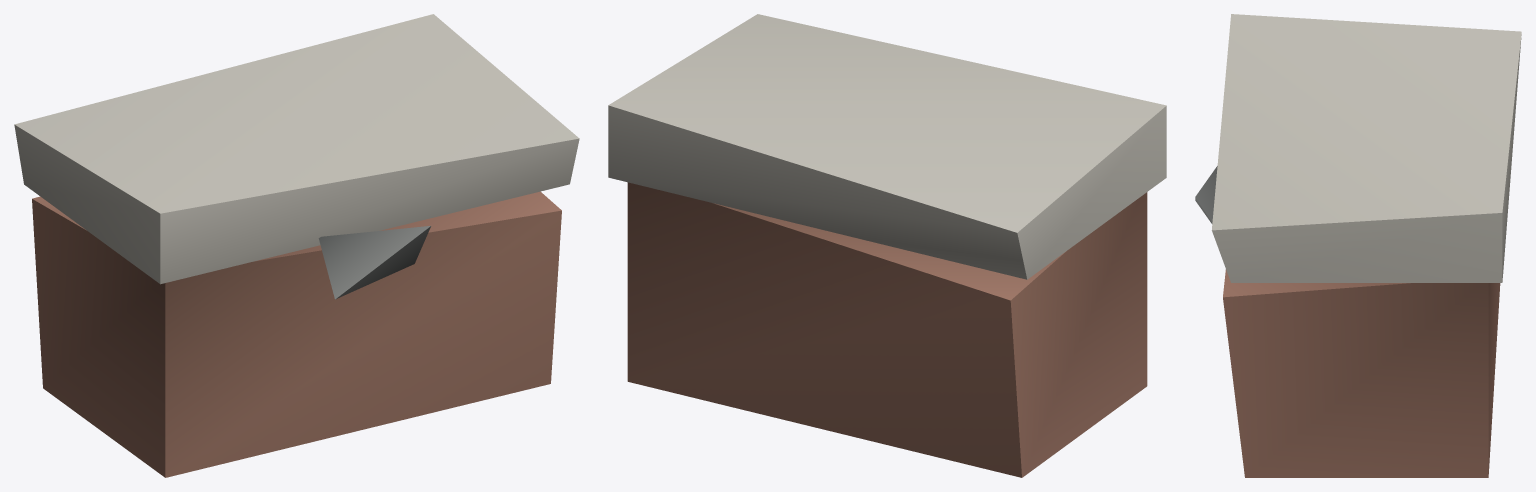
The model's file is cooler.lod1.glb.
The picture shows the model from 3 angles, left to right: view 1: azimuth 30°, elevation 25°; view 2: azimuth 150°, elevation 25°; view 3: azimuth 270°, elevation 25°; orthographic projection. The views are drawn at different scales.
Bounding box in the file's own units: 0.85 × 0.54 × 0.59.
